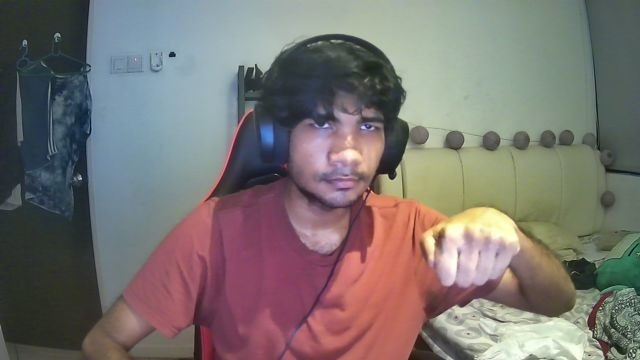Yes: (423, 201, 523, 287)
